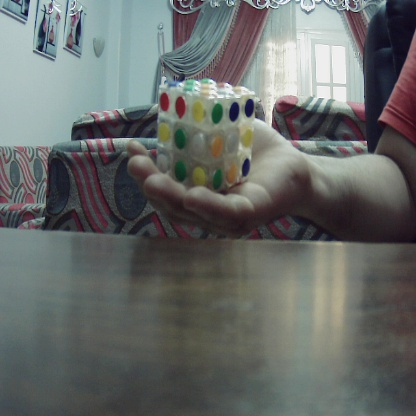Rubix Cube: (158, 73, 255, 186)
